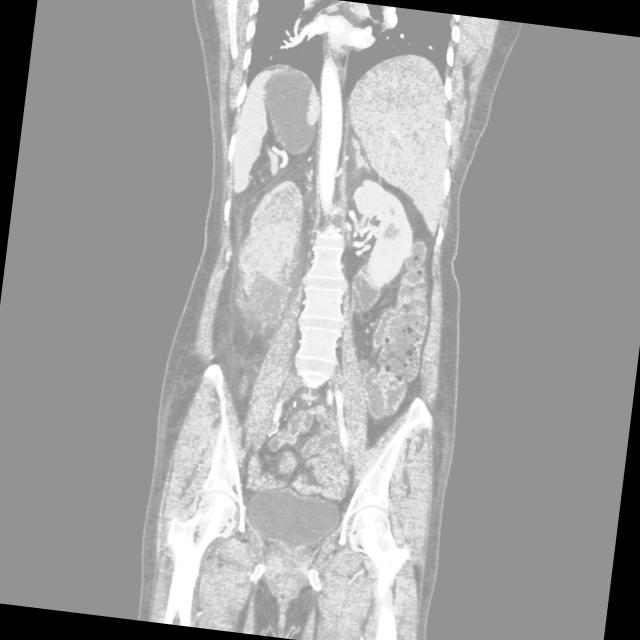TUMOR: (82, 117, 555, 515)
